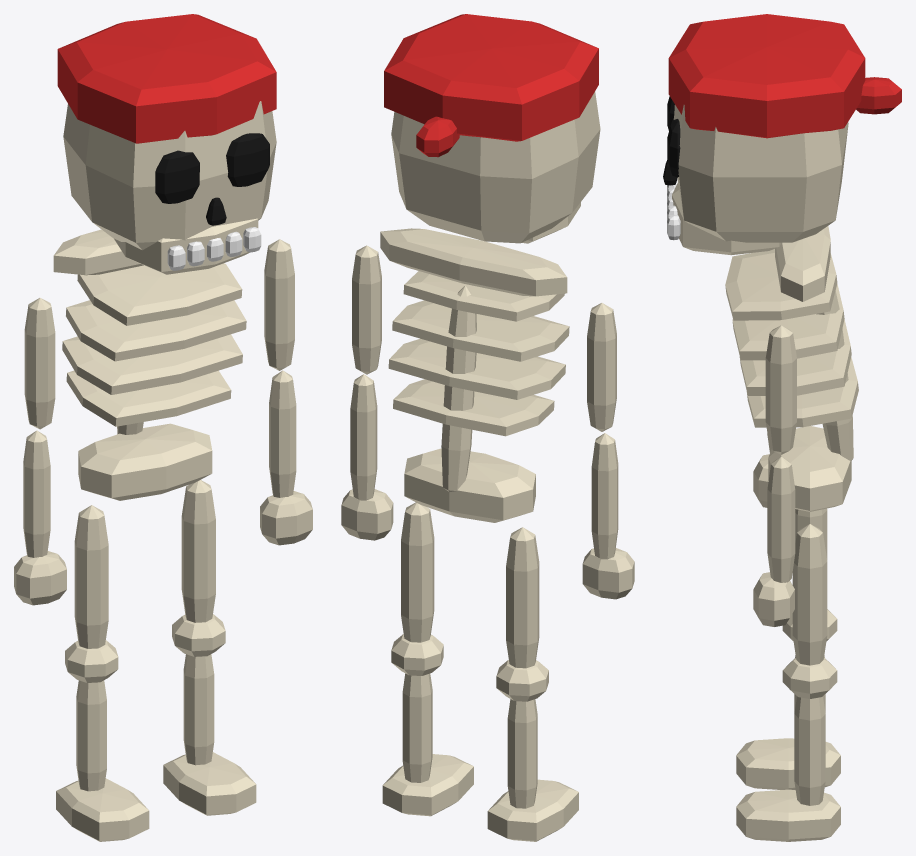
File: mon-skeleton-2.glb
3 renders of one model, left to right at view 1: azimuth 30°, elevation 25°; view 2: azimuth 150°, elevation 25°; view 3: azimuth 270°, elevation 25°, orthographic.
Visible parts, largest first — view 1: head, torso, leg-left, leg-right, arm-right, arm-left; view 2: head, torso, leg-right, leg-left, arm-left, arm-right; view 3: head, torso, leg-left, arm-left, leg-right, arm-right.
Boxes of the visible parts, x1,y1,x2,y2 form: head: (57,14,276,274); torso: (53,229,246,500); leg-left: (163,480,256,815); leg-right: (56,505,149,841); arm-right: (14,298,66,605); arm-left: (260,239,312,545); head: (384,14,600,243); torso: (380,228,569,522); leg-right: (487,527,578,841); leg-left: (382,502,473,816); arm-left: (341,245,393,540); arm-right: (582,303,634,599); head: (663,14,901,255); torso: (725,226,858,511); leg-left: (736,524,840,841); arm-left: (753,325,796,626); leg-right: (736,508,840,789); arm-right: (753,433,771,507).
Bounding box in the file's own units: 0.9345 × 2.34 × 0.6674.
